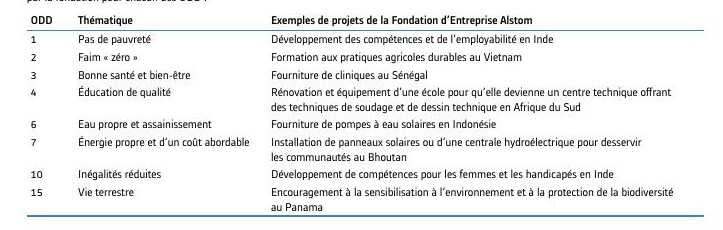table: (0, 0, 723, 230)
